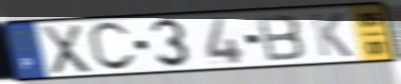3: (148, 17, 194, 70)
4: (203, 15, 245, 66)
B: (253, 13, 308, 63)
C: (86, 20, 140, 74)
K: (308, 12, 355, 59)
X: (40, 22, 93, 77)
